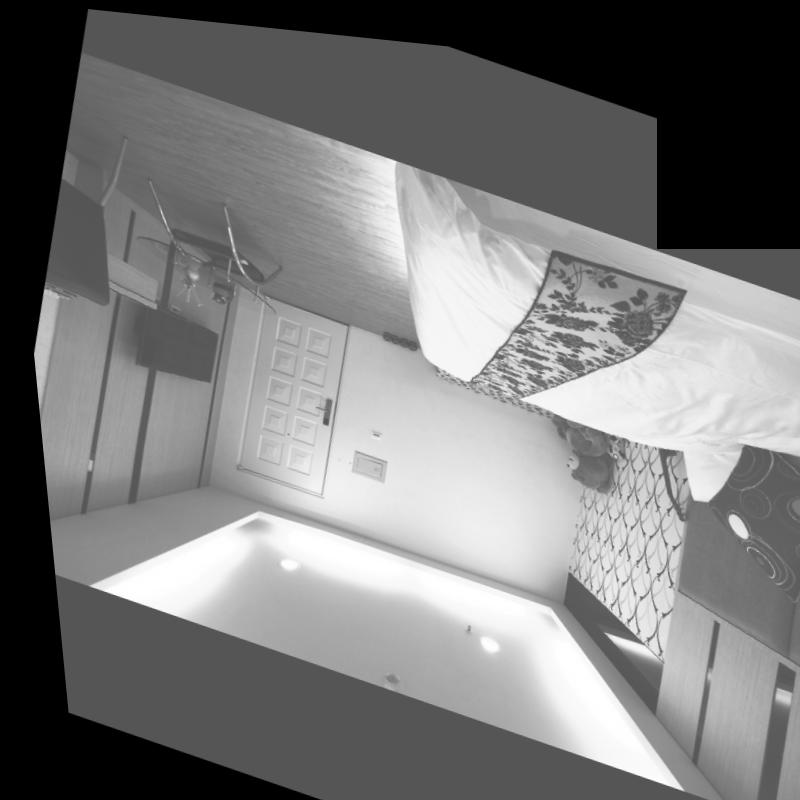pillow: (674, 406, 800, 616)
